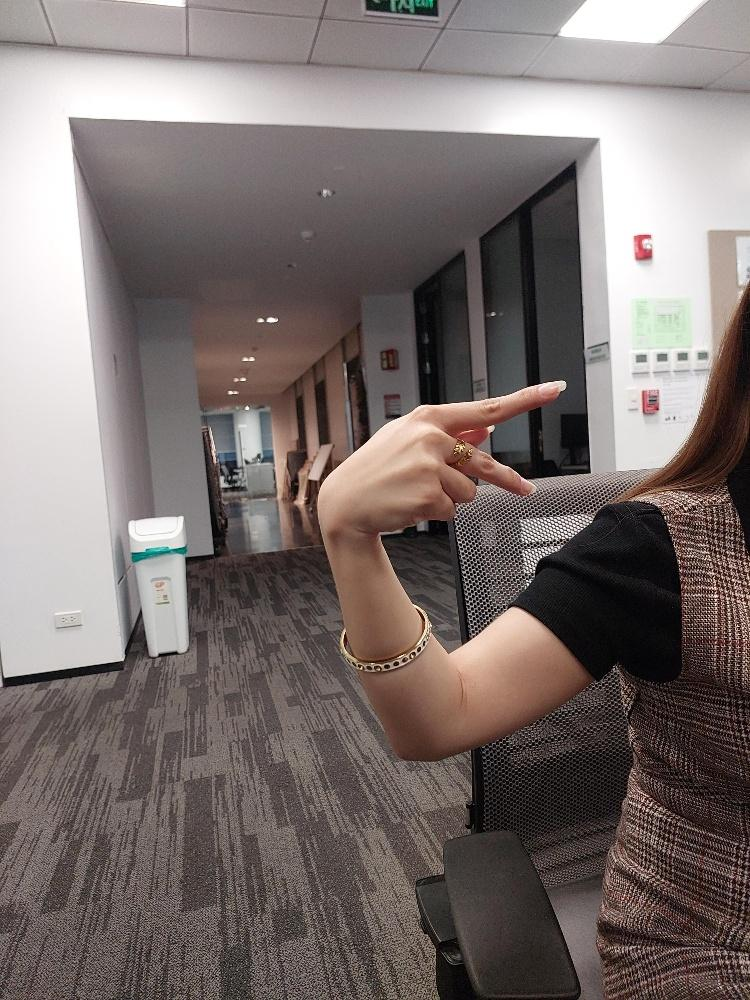k: (313, 376, 570, 536)
